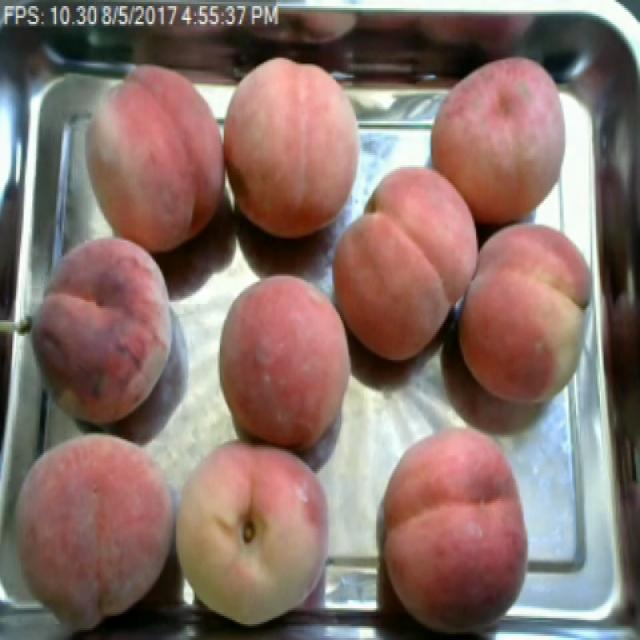Fruit: (1, 413, 180, 640), (368, 419, 540, 638), (20, 225, 191, 445), (324, 151, 491, 376), (172, 425, 347, 636), (441, 209, 611, 415), (204, 266, 367, 465), (220, 46, 375, 248), (421, 41, 583, 232), (73, 60, 227, 260)
